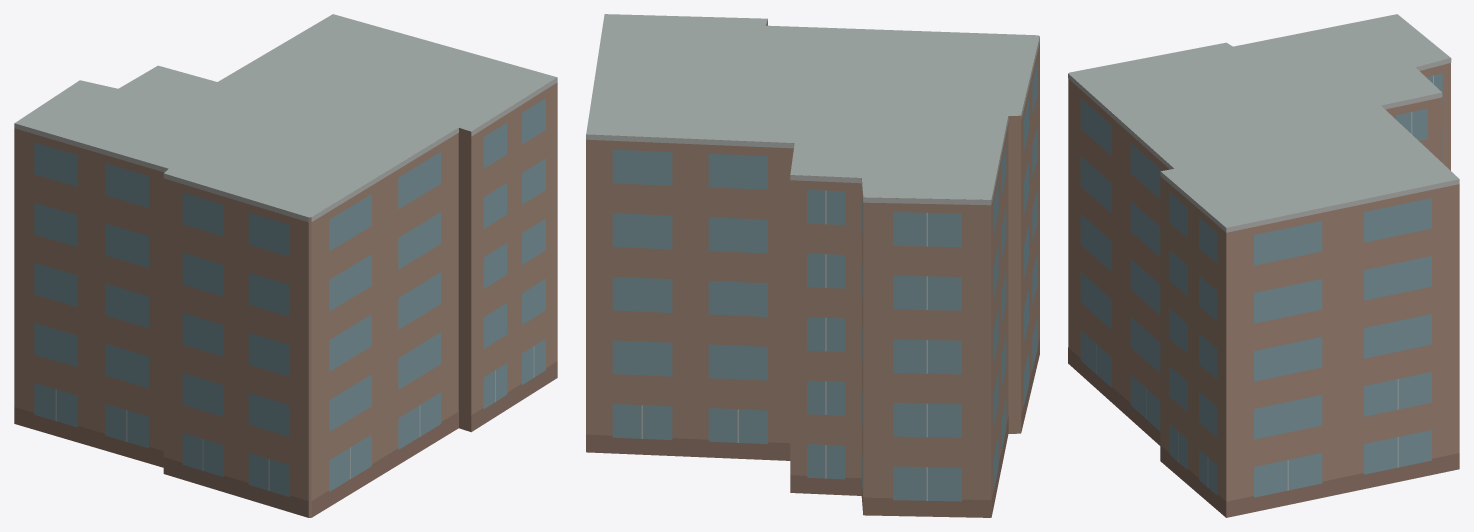
Rendered from survey-upis-32512714.glb.
The picture shows the model from 3 angles, left to right: view 1: azimuth 30°, elevation 25°; view 2: azimuth 150°, elevation 25°; view 3: azimuth 270°, elevation 25°; orthographic projection. The views are drawn at different scales.
Parts seen in each view (by area): view 1: survey-upis-32512714.tmp; view 2: survey-upis-32512714.tmp; view 3: survey-upis-32512714.tmp.
Part boxes in pixels (x1,y1,x2,y2): survey-upis-32512714.tmp: (14, 14, 557, 517); survey-upis-32512714.tmp: (586, 14, 1039, 517); survey-upis-32512714.tmp: (1068, 14, 1459, 517).
Size of the model in its own units: 23.27 by 14.7 by 18.
